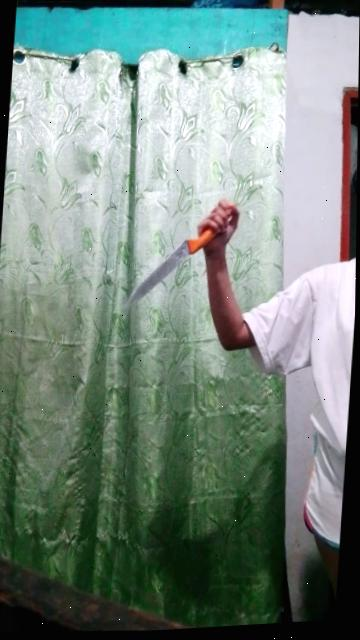long knife: (127, 193, 243, 325)
